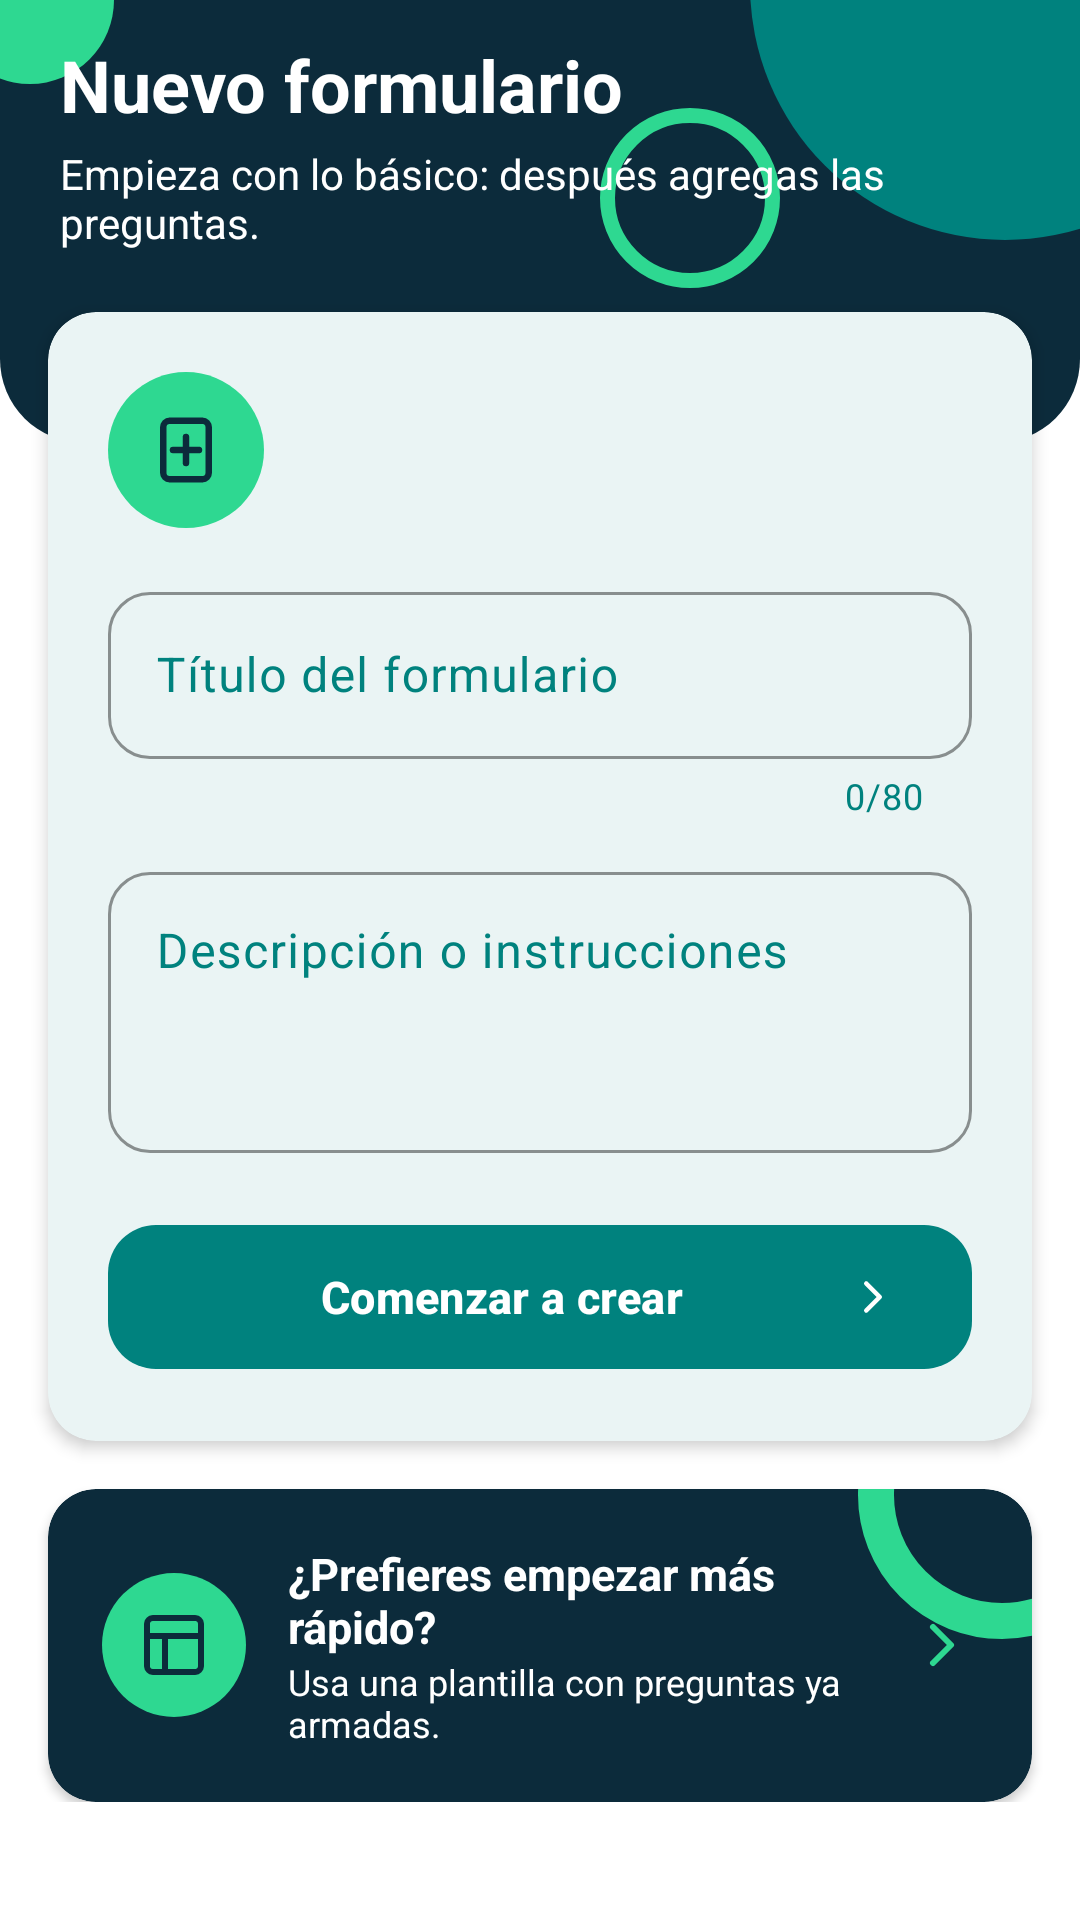

Icons on this 1080px×1920px Android screen, each with its box as (x1, y1, x2, y2):
nuevo: (108, 372, 264, 528)
plantillas: (102, 1573, 246, 1717)
